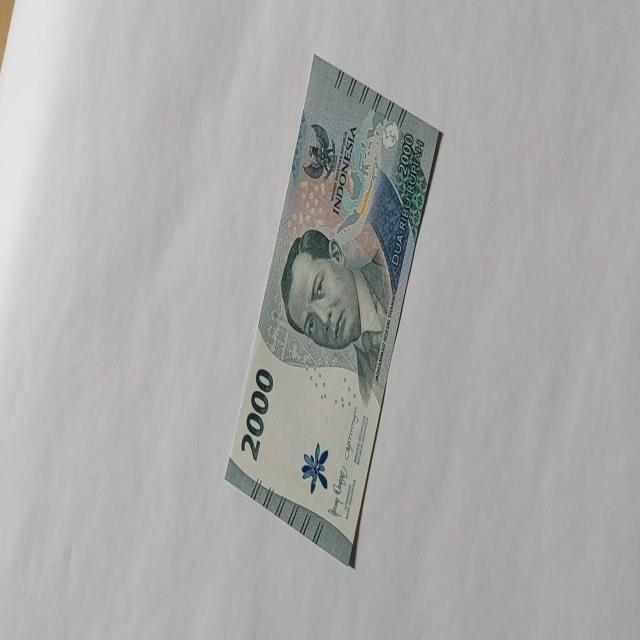dua ribu rupiah: (223, 52, 443, 568), (280, 226, 392, 406)
